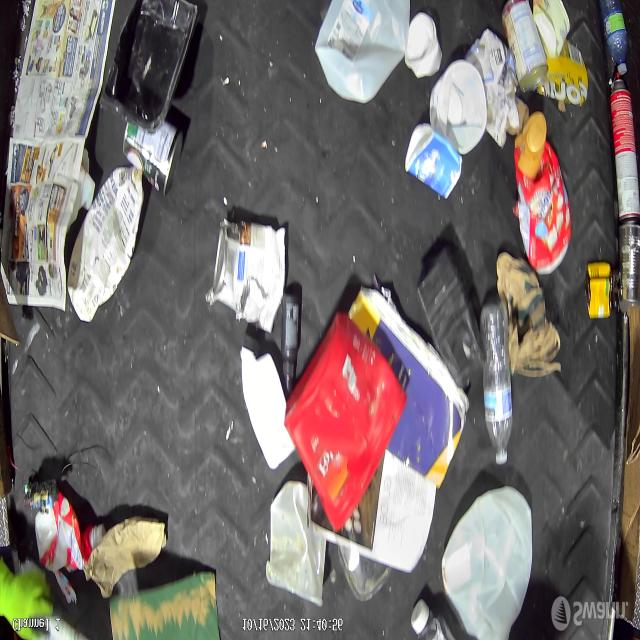can: (204, 217, 286, 334), (121, 120, 186, 201), (609, 71, 640, 224), (501, 0, 549, 95), (618, 224, 640, 313), (585, 260, 613, 320)
milk_jug: (441, 485, 534, 640), (314, 0, 412, 104)
non_white_jug: (284, 309, 408, 536), (68, 167, 144, 322), (513, 113, 572, 274)
plastic_bottle: (480, 299, 513, 467), (598, 0, 628, 79)
